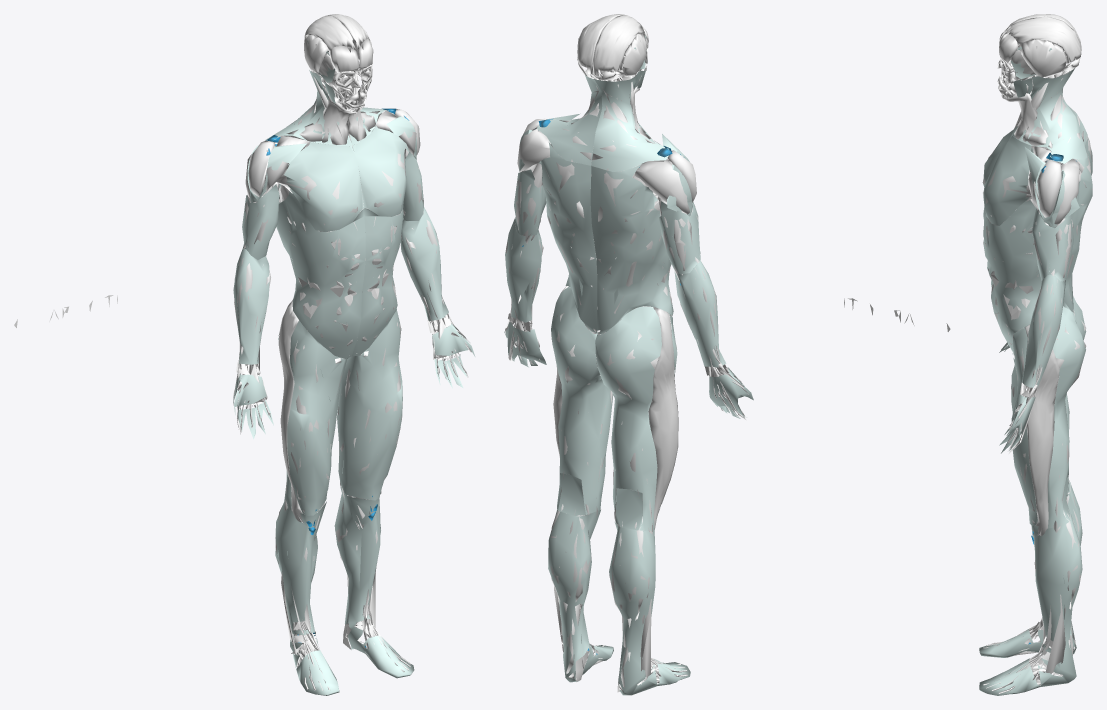
File: anatomy_muscular.glb
3 views of the same model, side by side, from view 1: azimuth 30°, elevation 25°; view 2: azimuth 150°, elevation 25°; view 3: azimuth 270°, elevation 25° (orthographic). The views are drawn at different scales.
Parts seen in each view (by area): view 1: Fascia lata.l, Investing abdominal fascia.r, Fascia lata.r, Crural fascia.l, Crural fascia.r, Pectoral fascia.r, Investing abdominal fascia.l, Pectoral fascia.l, Antebrachial fascia.r, Antebrachial fascia.l, Iliotibial tract.r, Brachial fascia.r (+10 smaller); view 2: Investing abdominal fascia.r, Fascia lata.r, Fascia lata.l, Investing abdominal fascia.l, Crural fascia.r, Crural fascia.l, Superficial investing cervical fascia.r, Iliotibial tract.r, Antebrachial fascia.r, Antebrachial fascia.l, Superficial investing cervical fascia.l, Epicranial aponeurosis.r (+10 smaller); view 3: Investing abdominal fascia.l, Crural fascia.l, Fascia lata.l, Iliotibial tract.l, Superficial investing cervical fascia.l, Pectoral fascia.l, Antebrachial fascia.l, Brachial fascia.l, Epicranial aponeurosis.l, Crural fascia.r, Temporoparietalis muscle.l, Platysma.l (+23 smaller).
Boxes of the visible parts, x1,y1,x2,y2 form: Fascia lata.l: (337, 309, 402, 500); Investing abdominal fascia.r: (276, 189, 365, 358); Fascia lata.r: (278, 320, 348, 515); Crural fascia.l: (334, 487, 414, 678); Crural fascia.r: (275, 501, 339, 695); Pectoral fascia.r: (284, 142, 363, 231); Investing abdominal fascia.l: (352, 208, 403, 356); Pectoral fascia.l: (352, 126, 406, 216); Antebrachial fascia.r: (233, 248, 269, 364); Antebrachial fascia.l: (400, 207, 448, 321); Iliotibial tract.r: (278, 300, 303, 523); Brachial fascia.r: (242, 184, 279, 259); Investing abdominal fascia.r: (590, 164, 673, 333); Fascia lata.r: (595, 306, 677, 530); Fascia lata.l: (551, 286, 613, 514); Investing abdominal fascia.l: (539, 142, 597, 333); Crural fascia.r: (609, 522, 690, 695); Crural fascia.l: (548, 510, 613, 682); Superficial investing cervical fascia.r: (591, 70, 670, 171); Iliotibial tract.r: (649, 307, 678, 529); Antebrachial fascia.r: (674, 260, 726, 367); Antebrachial fascia.l: (505, 218, 542, 322); Superficial investing cervical fascia.l: (537, 75, 602, 165); Epicranial aponeurosis.r: (592, 14, 644, 76); Investing abdominal fascia.l: (983, 154, 1092, 352); Crural fascia.l: (979, 514, 1082, 695); Fascia lata.l: (1011, 306, 1085, 528); Iliotibial tract.l: (1025, 324, 1059, 535); Superficial investing cervical fascia.l: (1012, 68, 1087, 163); Pectoral fascia.l: (983, 136, 1031, 225); Antebrachial fascia.l: (1022, 274, 1065, 387); Brachial fascia.l: (1032, 207, 1073, 281); Epicranial aponeurosis.l: (1002, 17, 1081, 63); Crural fascia.r: (979, 485, 1082, 657); Temporoparietalis muscle.l: (1018, 39, 1066, 77); Platysma.l: (1002, 93, 1052, 149).
Size of the model in its own units: 1.23 by 1.7 by 0.2672.
